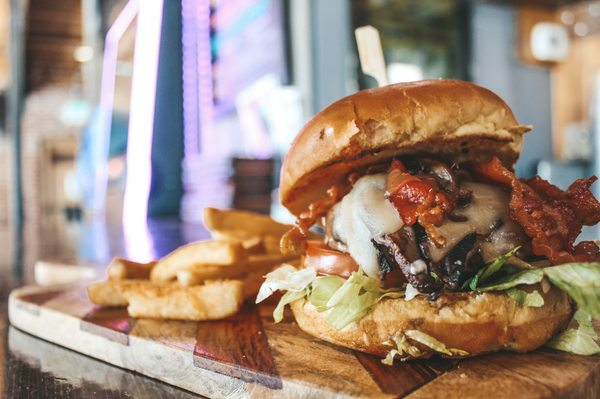soup: (260, 79, 600, 364)
